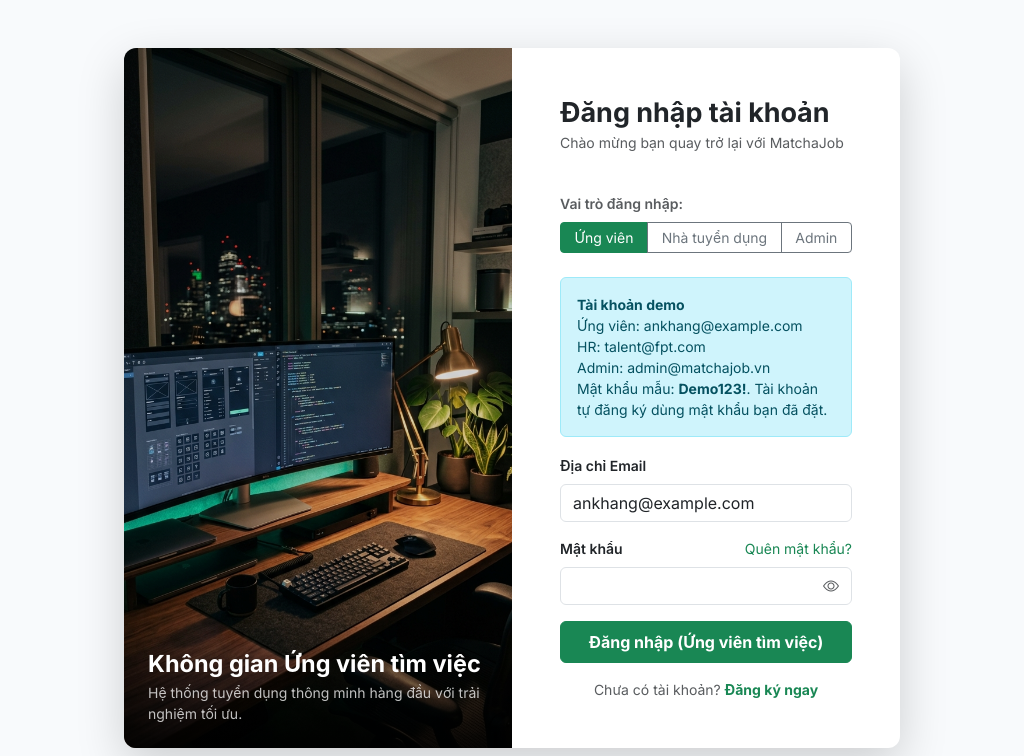
Test: login hiển thị lỗi tại form và không điều hướng khi thất bại
Replace the text in the field named "Email" with "a@b.com" at x=706, y=503, box [560, 484, 852, 522]
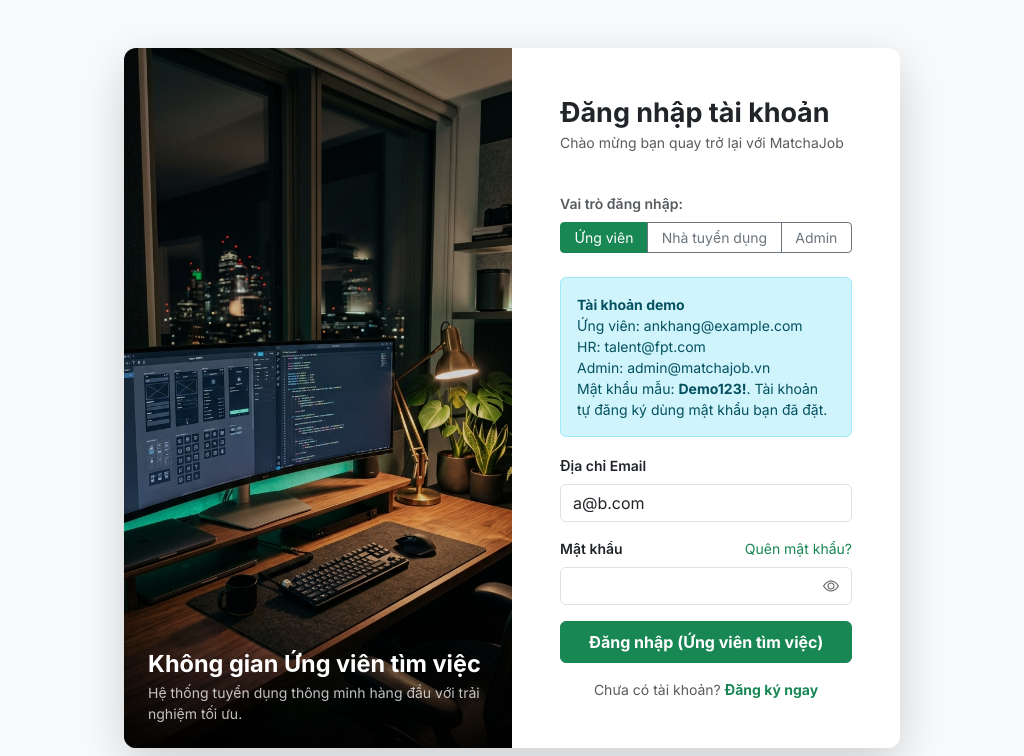
Type "wrong" into the password field named "Mật khẩu" at x=706, y=586, box [560, 567, 852, 605]
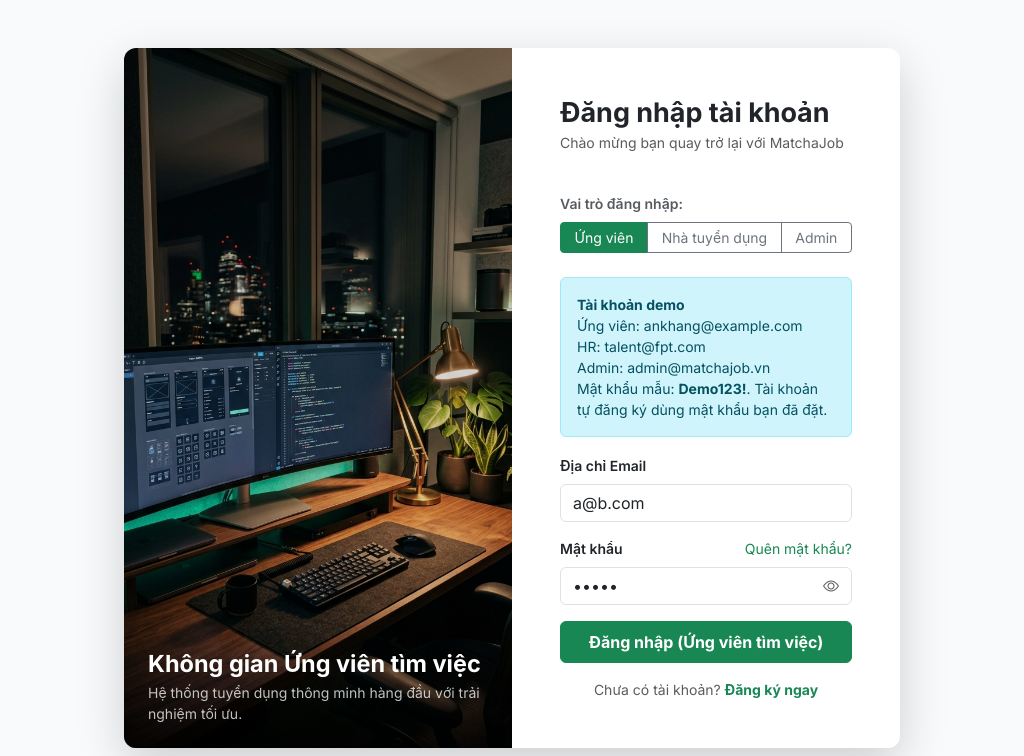
Submit the form named "Email", box [560, 277, 852, 700]
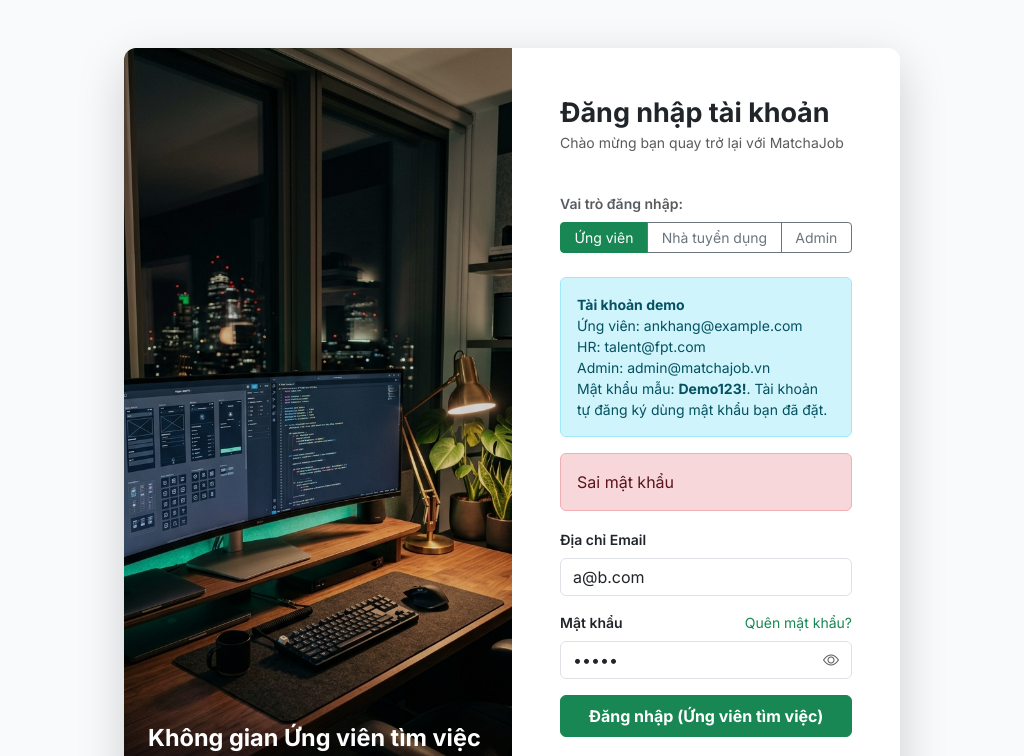
Now the message reads "Sai mật khẩu", box [577, 472, 674, 492]
